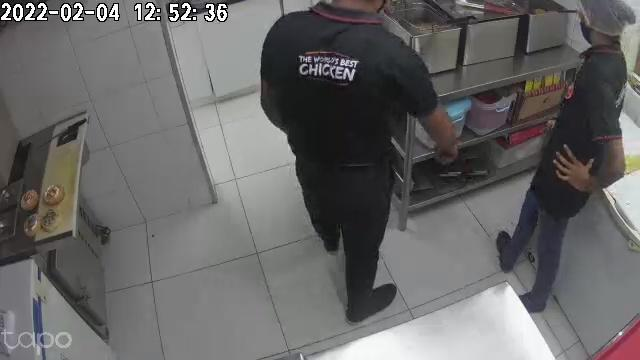no_gloves: (556, 144, 594, 193)
